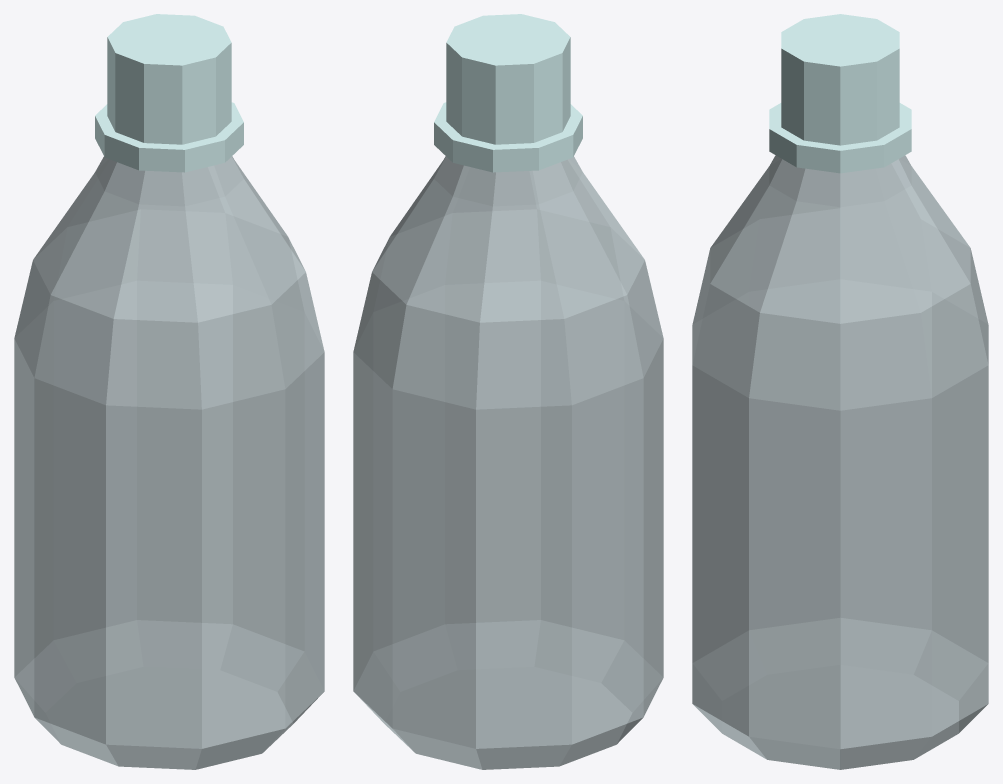
File: Waste_Bottle.fbx
3 renders of one model, left to right at view 1: azimuth 30°, elevation 25°; view 2: azimuth 150°, elevation 25°; view 3: azimuth 270°, elevation 25°, orthographic.
Visible parts, largest first — view 1: Waste_Bottle; view 2: Waste_Bottle; view 3: Waste_Bottle.
Boxes of the visible parts, x1,y1,x2,y2 form: Waste_Bottle: (14,14,324,769); Waste_Bottle: (353,14,663,769); Waste_Bottle: (692,14,988,769).
Bounding box in the file's own units: 0.25 × 0.6 × 0.2378.
